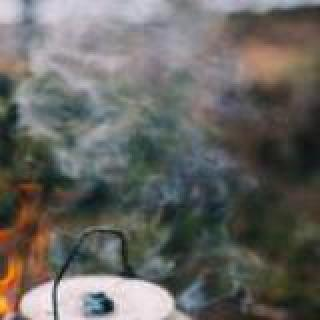fire: (15, 9, 246, 283), (0, 206, 24, 320)
